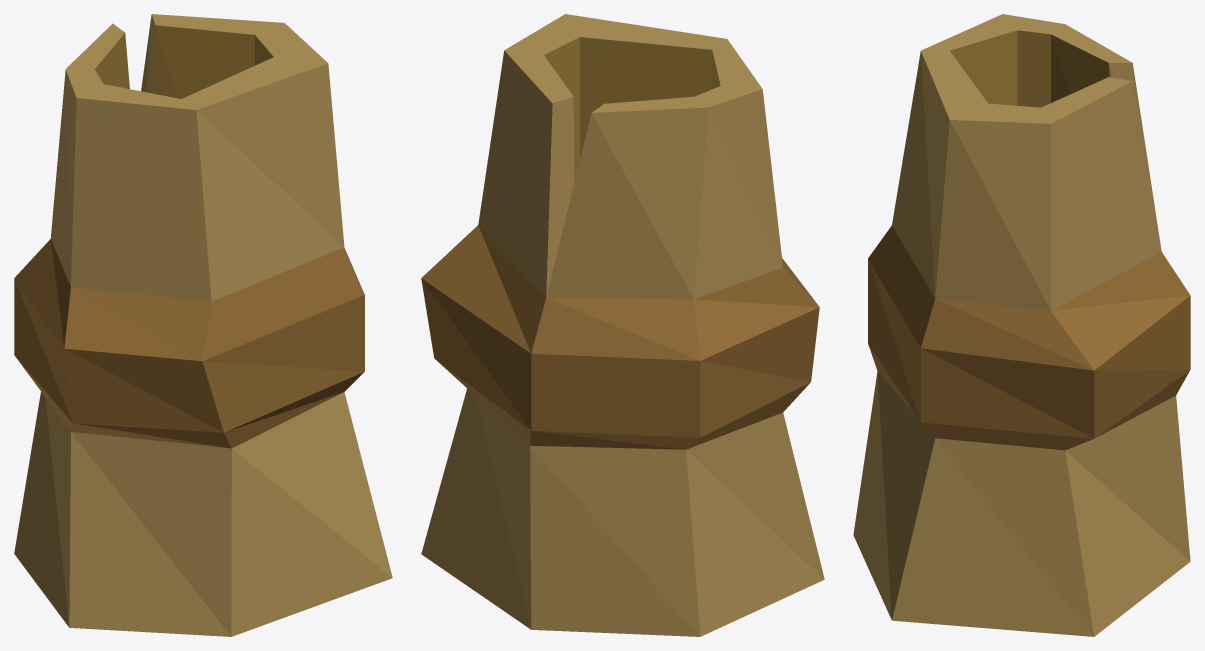
Rendered from obj_pot_0.obj.
3 views of the same model, side by side, from view 1: azimuth 30°, elevation 25°; view 2: azimuth 150°, elevation 25°; view 3: azimuth 270°, elevation 25° (orthographic). The views are drawn at different scales.
Size of the model in its own units: 0.5938 by 0.8672 by 0.5469.
